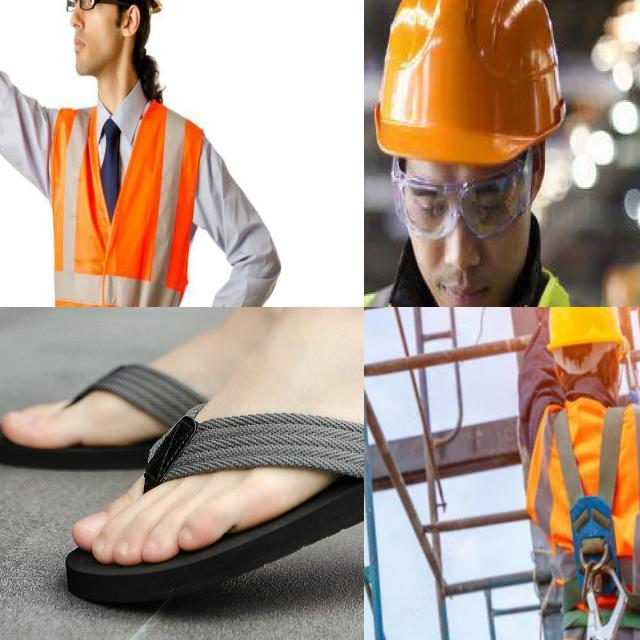Harness: (553, 407, 640, 640)
Sandals: (55, 307, 364, 608)
face_nomask: (390, 156, 529, 307), (63, 0, 128, 82)
glasses: (389, 157, 532, 241), (63, 0, 102, 15)
head_helmet: (366, 0, 557, 149)
person: (364, 0, 640, 307), (0, 0, 245, 307)
vest: (56, 95, 195, 307)
